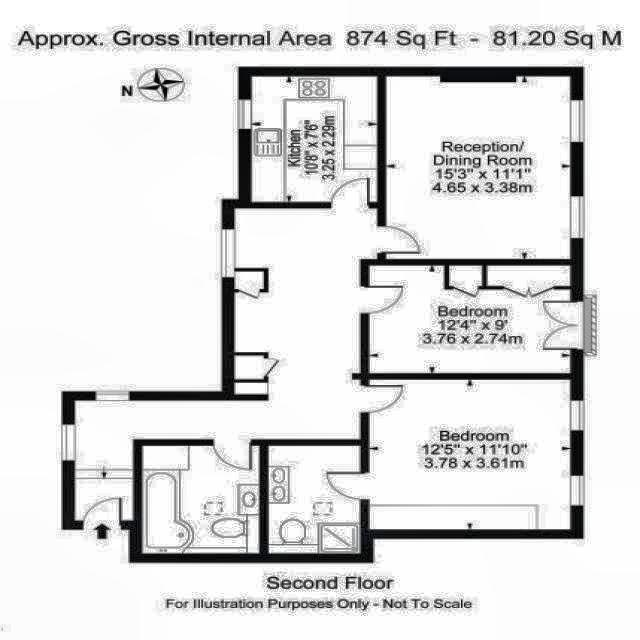room: (75, 208, 377, 520), (386, 76, 570, 258), (370, 380, 571, 529), (370, 265, 570, 373), (252, 77, 377, 202), (143, 446, 258, 553), (269, 446, 360, 553)
